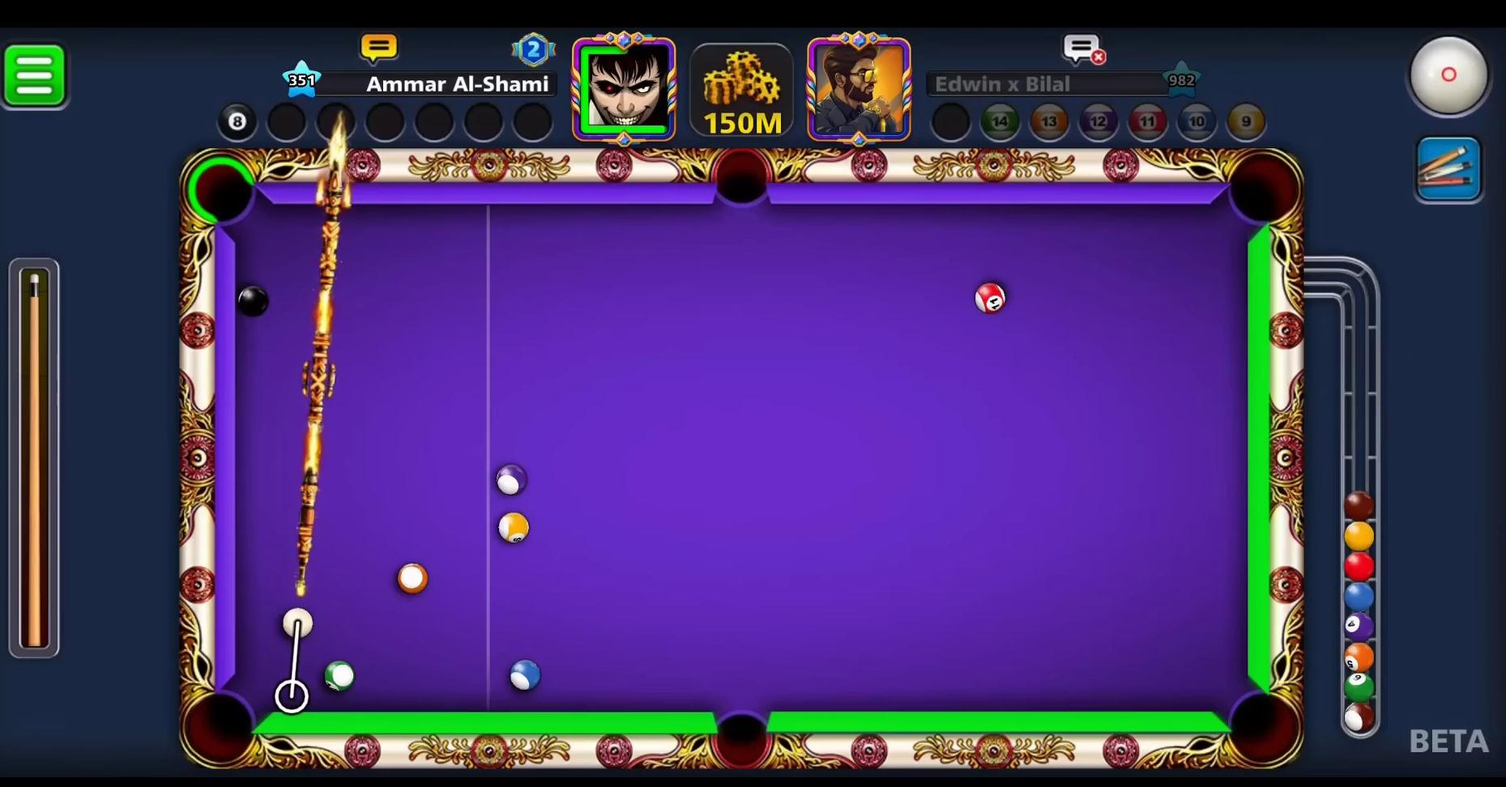Ball: (497, 653, 549, 698), (227, 280, 278, 324), (314, 658, 364, 696), (488, 460, 535, 497), (971, 277, 1009, 320), (391, 562, 433, 598), (494, 509, 535, 545)
Force: (0, 259, 65, 660)
Hole: (1206, 672, 1311, 776), (170, 679, 277, 774), (1217, 143, 1306, 234), (180, 144, 266, 236), (696, 689, 789, 774), (701, 143, 783, 221)
Play_Area: (235, 204, 1244, 717)
Spin: (1402, 28, 1503, 128)
White: (274, 604, 316, 639)
